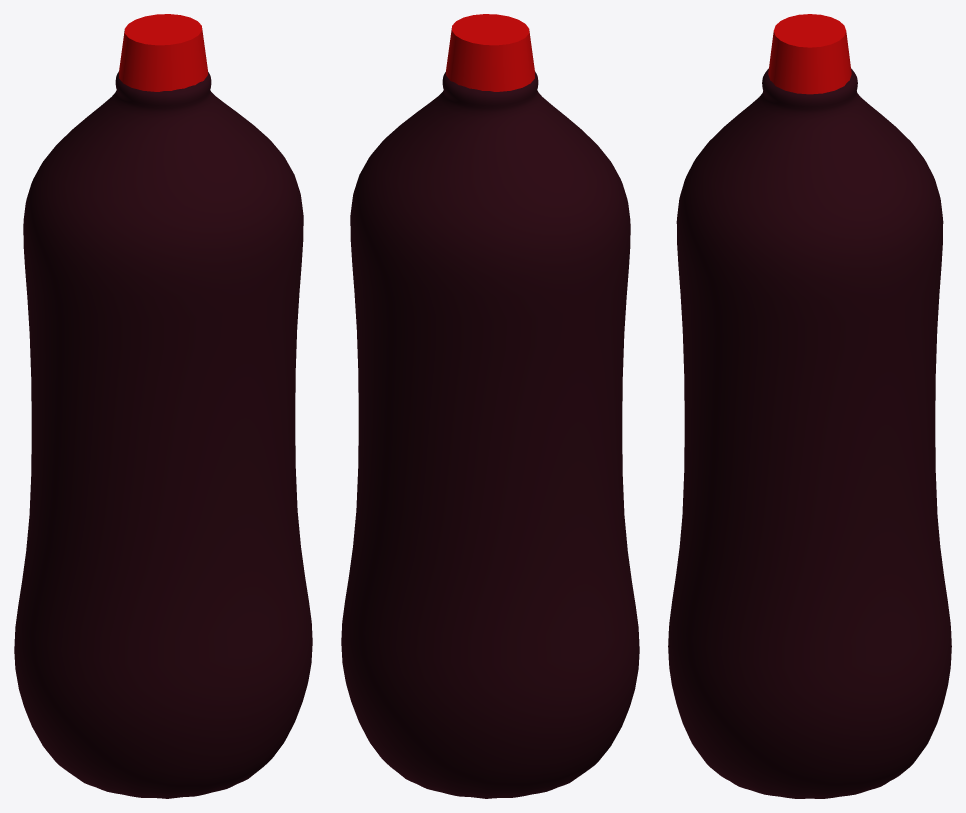
Rendered from soda_pop 1.fbx.
3 renders of one model, left to right at view 1: azimuth 30°, elevation 25°; view 2: azimuth 150°, elevation 25°; view 3: azimuth 270°, elevation 25°, orthographic.
Parts seen in each view (by area): view 1: pCylinder9, pCylinder10; view 2: pCylinder9, pCylinder10; view 3: pCylinder9, pCylinder10.
Boxes of the visible parts, x1,y1,x2,y2 form: pCylinder9: [14, 71, 312, 798]; pCylinder10: [119, 14, 207, 91]; pCylinder9: [341, 71, 639, 798]; pCylinder10: [446, 14, 534, 91]; pCylinder9: [668, 68, 951, 798]; pCylinder10: [768, 14, 851, 94].
Bounding box in the file's own units: 0.2846 × 0.7642 × 0.2667.
